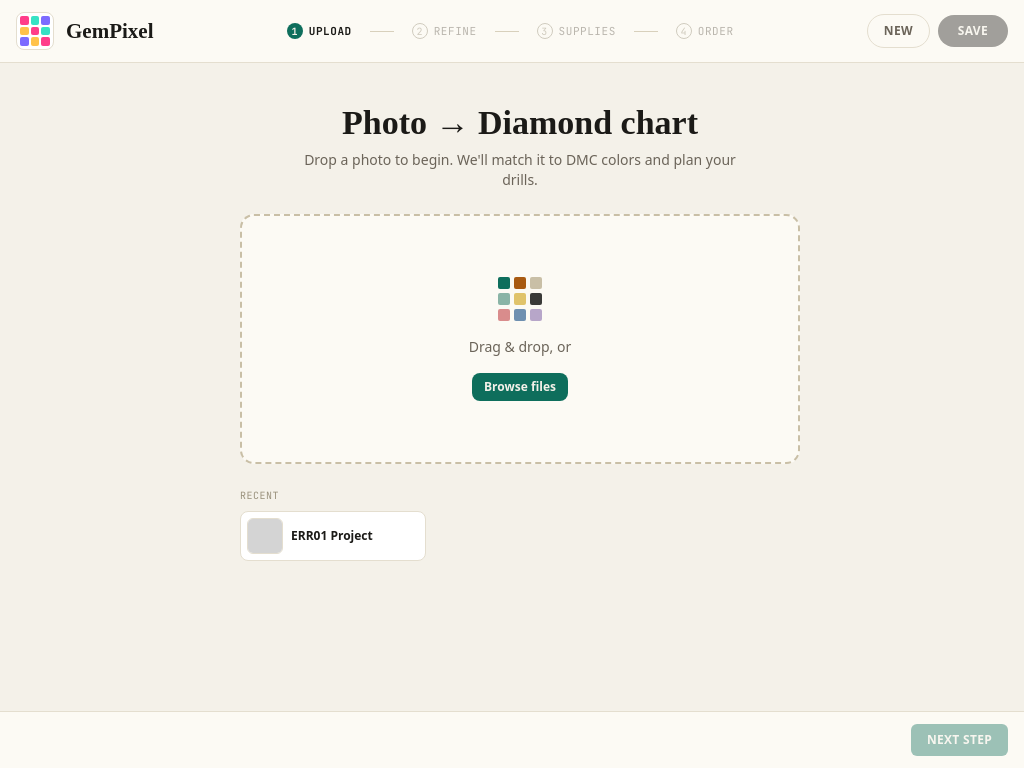
App Component Mounting and Basic UI Inputs › ERR-01 unified action-error banner › surfaces the banner when the order-packet download fails (re-homed W5)
Click the button "ERR01 Project" at [310, 536], box [247,518,373,554]
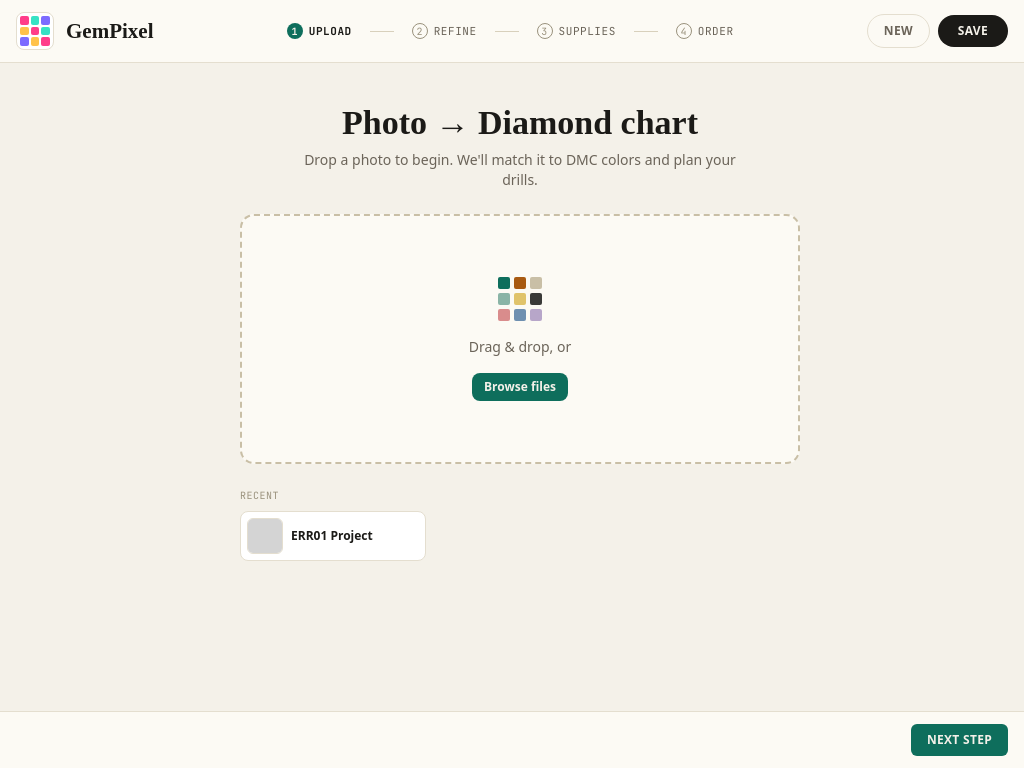
Click the button with id "wizard-next-btn" at [959, 740], box [911,724,1008,756]
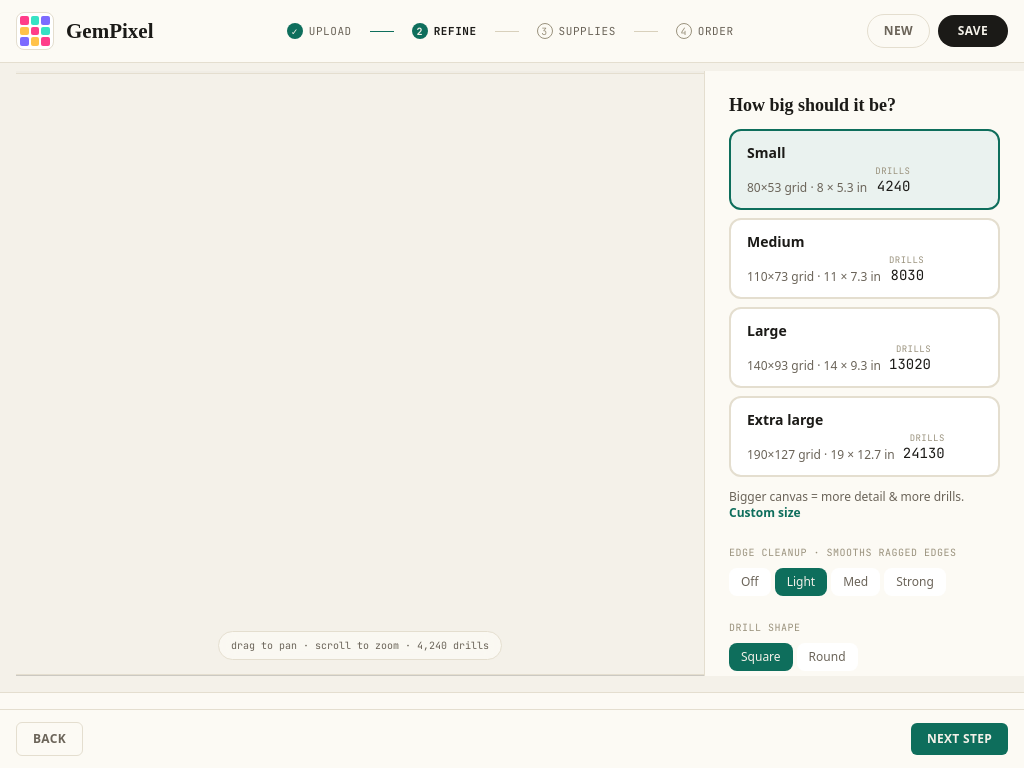
Click the button with id "wizard-next-btn" at [959, 739], box [911,723,1008,755]
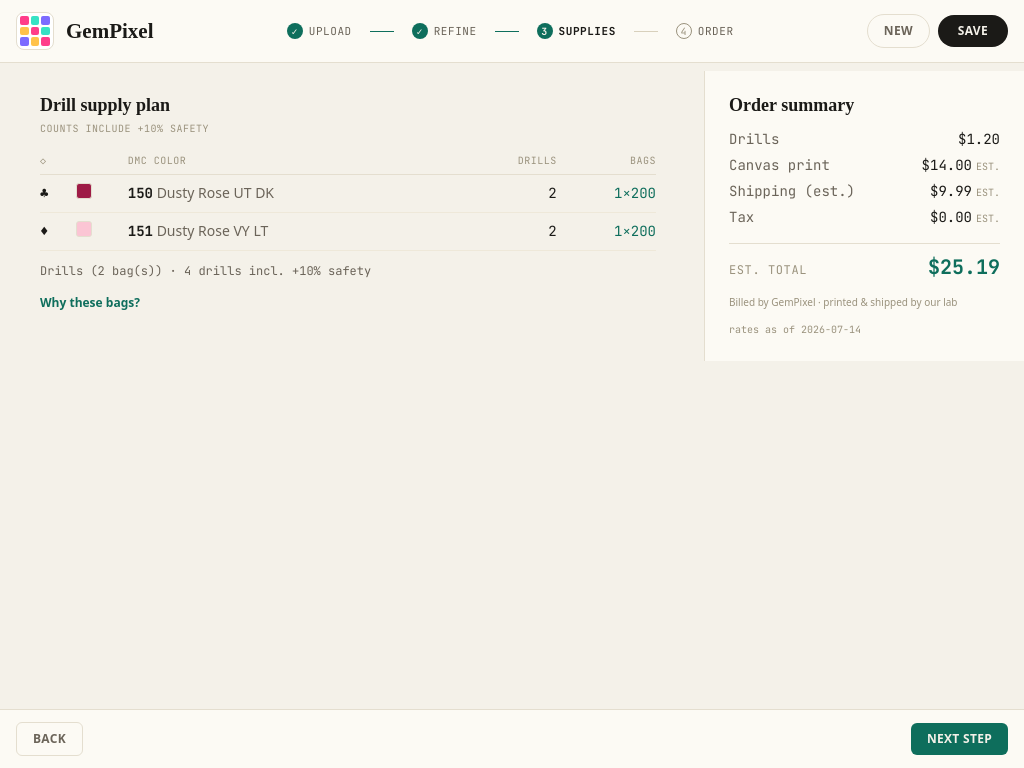
Click the button with id "wizard-next-btn" at [959, 739], box [911,723,1008,755]
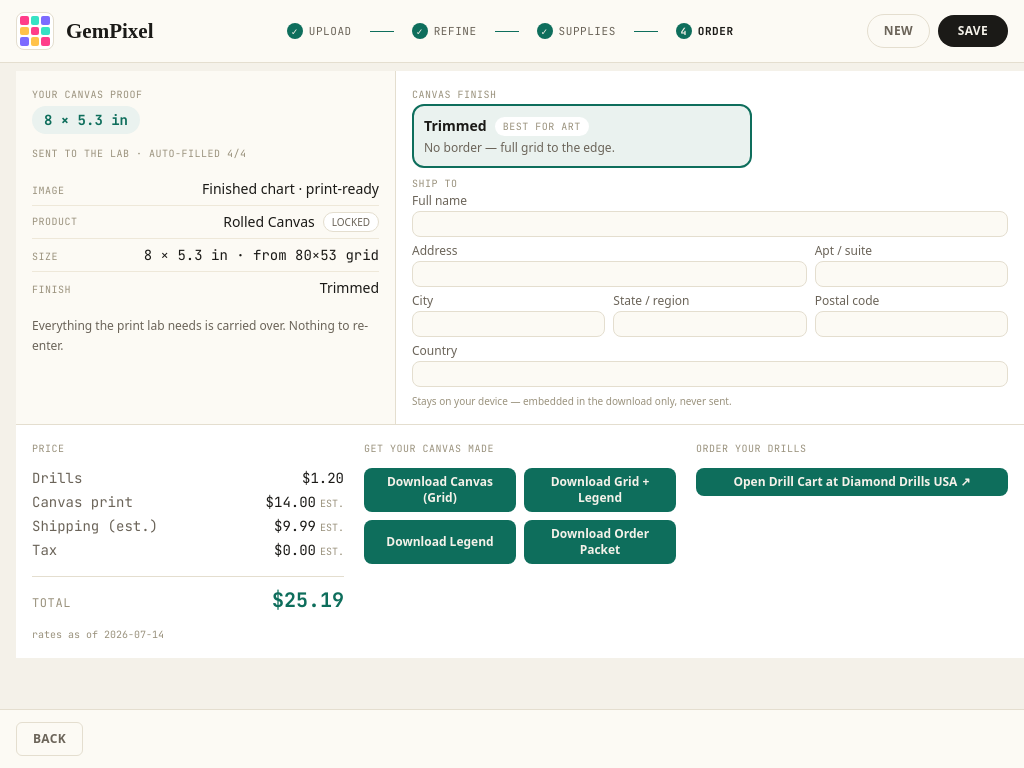
Expected: the button "Download Order Packet" is shown
Click the button "Download Order Packet" at [600, 542], box [524,520,676,564]
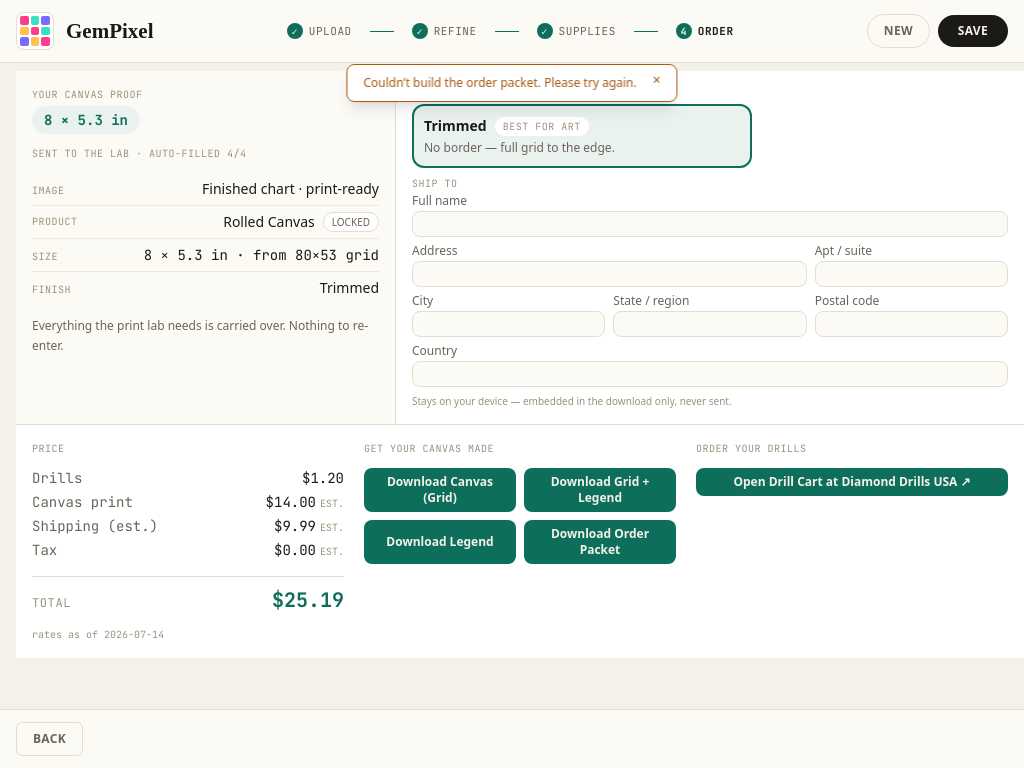
Expected: the text "build the order packet" is shown, [363,74,637,91]
